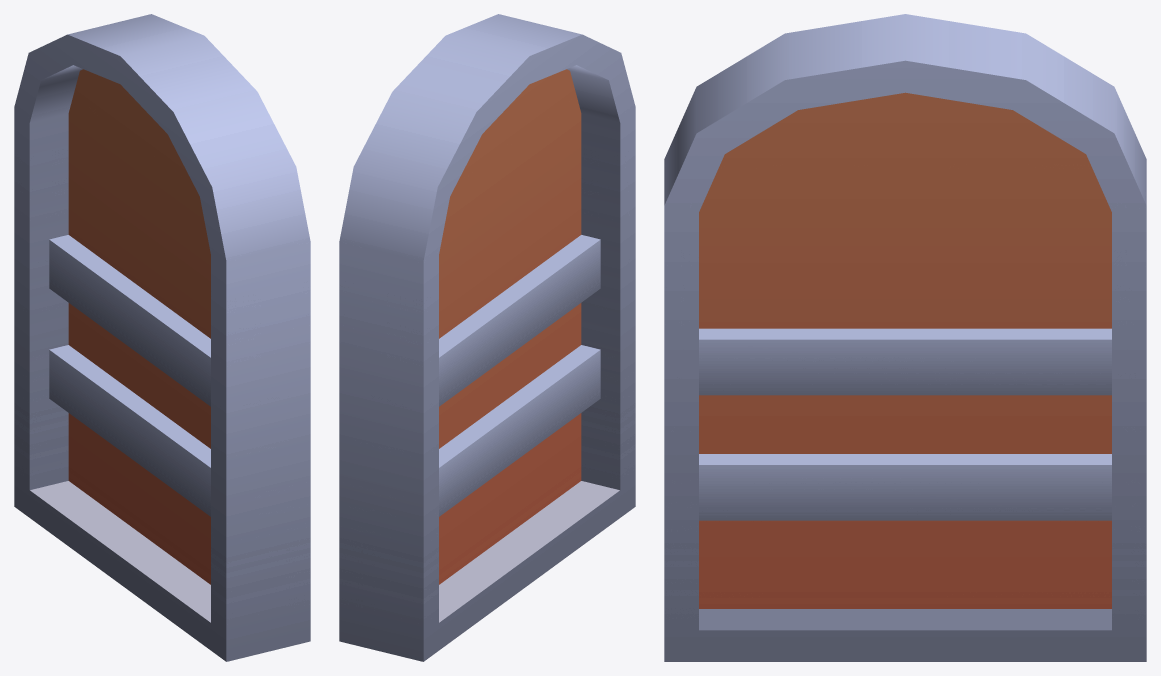
File: gate.glb
3 renders of one model, left to right at view 1: azimuth 30°, elevation 25°; view 2: azimuth 150°, elevation 25°; view 3: azimuth 270°, elevation 25°, orthographic. The views are drawn at different scales.
Parts seen in each view (by area): view 1: gate; view 2: gate; view 3: gate.
Boxes of the visible parts, left/top/right/bottom form: gate: left=14, top=14, right=310, bottom=661; gate: left=339, top=14, right=635, bottom=661; gate: left=664, top=14, right=1146, bottom=661.
Bounding box in the file's own units: 0.1516 × 0.9103 × 0.6622.
